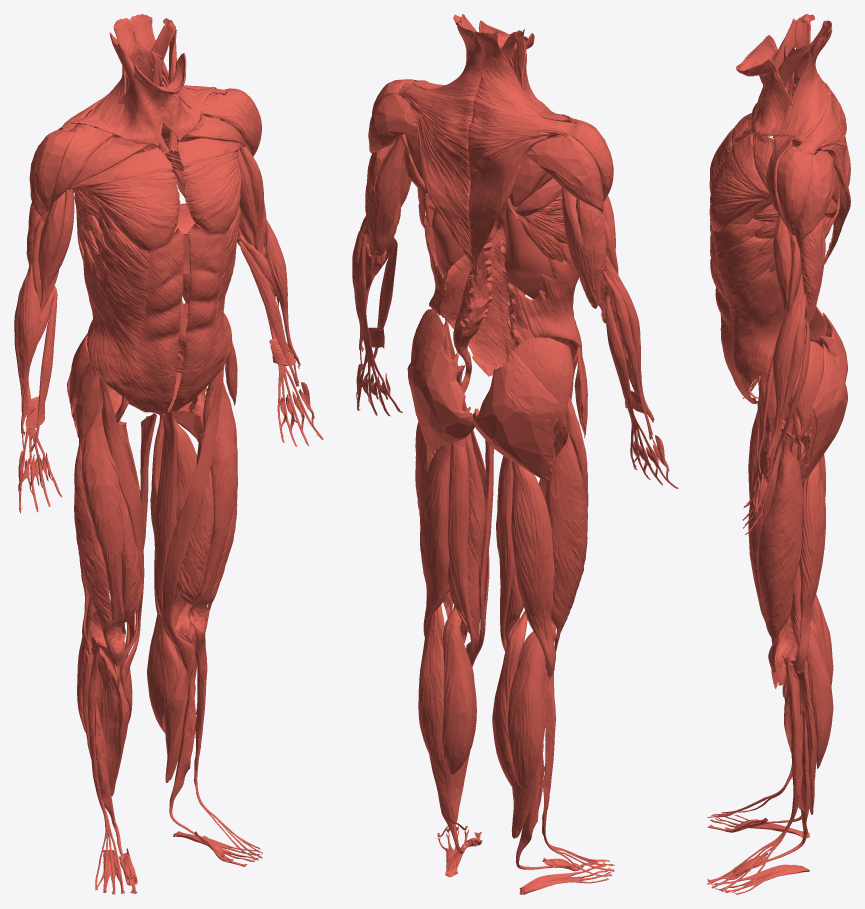
File: human-muscles.glb
3 views of the same model, side by side, from view 1: azimuth 30°, elevation 25°; view 2: azimuth 150°, elevation 25°; view 3: azimuth 270°, elevation 25° (orthographic). The views are drawn at different scales.
Visible parts, largest first — view 1: external_oblique_r_right_external_oblique, external_oblique_l_left_external_oblique, pectoralis_major_mid_sternocostal_part_of_right_pectoralis_m, rectus_femoris_r_right_rectus_femoris, pectoralis_major_mid_sternocostal_part_of_left_pectoralis_ma, rectus_femoris_l_left_rectus_femoris, sartorius_l_left_sartorius, soleus_r_right_soleus, vastus_lateralis_r_right_vastus_lateralis, platysma_r_right_platysma, gracilis_l_left_gracilis, sartorius_r_right_sartorius (+40 smaller); view 2: gluteus_maximus_r_right_gluteus_maximus, biceps_femoris_mid_long_head_of_right_biceps_femoris, vastus_lateralis_r_right_vastus_lateralis, trapezius_mid_ascending_part_of_left_trapezius, external_oblique_l_left_external_oblique, trapezius_mid_ascending_part_of_right_trapezius, gluteus_maximus_l_left_gluteus_maximus, gastrocnemius_mid_lateral_head_of_right_gastrocnemius, gastrocnemius_mid_medial_head_of_left_gastrocnemius, biceps_femoris_mid_long_head_of_left_biceps_femoris, diaphragm_mid_diaphragm, external_oblique_r_right_external_oblique (+40 smaller); view 3: external_oblique_l_left_external_oblique, vastus_lateralis_l_left_vastus_lateralis, biceps_femoris_mid_long_head_of_left_biceps_femoris, pectoralis_major_mid_sternocostal_part_of_left_pectoralis_ma, gluteus_maximus_l_left_gluteus_maximus, extensor_digitorum_longus_l_left_extensor_digitorum_longus, platysma_l_left_platysma, trapezius_mid_descending_part_of_left_trapezius, deltoid_mid_acromial_part_of_left_deltoid, gastrocnemius_mid_lateral_head_of_left_gastrocnemius, brachioradialis_l_left_brachioradialis, deltoid_mid_spinal_part_of_left_deltoid (+35 smaller).
Part boxes in pixels (bbox=[...]): external_oblique_r_right_external_oblique: bbox=[83, 218, 184, 415]; external_oblique_l_left_external_oblique: bbox=[168, 205, 240, 412]; pectoralis_major_mid_sternocostal_part_of_right_pectoralis_m: bbox=[67, 147, 180, 250]; rectus_femoris_r_right_rectus_femoris: bbox=[81, 385, 125, 666]; pectoralis_major_mid_sternocostal_part_of_left_pectoralis_ma: bbox=[177, 138, 242, 233]; rectus_femoris_l_left_rectus_femoris: bbox=[188, 372, 237, 646]; sartorius_l_left_sartorius: bbox=[162, 364, 224, 669]; soleus_r_right_soleus: bbox=[82, 636, 129, 796]; vastus_lateralis_r_right_vastus_lateralis: bbox=[74, 436, 115, 664]; platysma_r_right_platysma: bbox=[70, 65, 176, 145]; gracilis_l_left_gracilis: bbox=[154, 410, 192, 644]; sartorius_r_right_sartorius: bbox=[98, 375, 144, 683]; gluteus_maximus_r_right_gluteus_maximus: bbox=[472, 349, 561, 482]; biceps_femoris_mid_long_head_of_right_biceps_femoris: bbox=[511, 461, 555, 677]; vastus_lateralis_r_right_vastus_lateralis: bbox=[545, 425, 587, 652]; trapezius_mid_ascending_part_of_left_trapezius: bbox=[408, 99, 478, 274]; external_oblique_l_left_external_oblique: bbox=[424, 204, 525, 376]; trapezius_mid_ascending_part_of_right_trapezius: bbox=[468, 123, 558, 274]; gluteus_maximus_l_left_gluteus_maximus: bbox=[407, 333, 474, 455]; gastrocnemius_mid_lateral_head_of_right_gastrocnemius: bbox=[507, 631, 545, 788]; gastrocnemius_mid_medial_head_of_left_gastrocnemius: bbox=[442, 607, 476, 774]; biceps_femoris_mid_long_head_of_left_biceps_femoris: bbox=[420, 443, 451, 637]; diaphragm_mid_diaphragm: bbox=[432, 205, 564, 298]; external_oblique_r_right_external_oblique: bbox=[518, 243, 582, 361]; external_oblique_l_left_external_oblique: bbox=[710, 218, 805, 404]; vastus_lateralis_l_left_vastus_lateralis: bbox=[757, 437, 803, 671]; biceps_femoris_mid_long_head_of_left_biceps_femoris: bbox=[795, 436, 825, 672]; pectoralis_major_mid_sternocostal_part_of_left_pectoralis_ma: bbox=[709, 134, 770, 231]; gluteus_maximus_l_left_gluteus_maximus: bbox=[798, 344, 847, 482]; extensor_digitorum_longus_l_left_extensor_digitorum_longus: bbox=[707, 656, 802, 892]; platysma_l_left_platysma: bbox=[736, 59, 807, 141]; trapezius_mid_descending_part_of_left_trapezius: bbox=[780, 29, 832, 135]; deltoid_mid_acromial_part_of_left_deltoid: bbox=[776, 147, 812, 235]; gastrocnemius_mid_lateral_head_of_left_gastrocnemius: bbox=[790, 620, 833, 768]; brachioradialis_l_left_brachioradialis: bbox=[765, 269, 804, 460]; deltoid_mid_spinal_part_of_left_deltoid: bbox=[795, 151, 834, 244].
Bounding box in the file's own units: 2.79 × 7.22 × 1.13.
